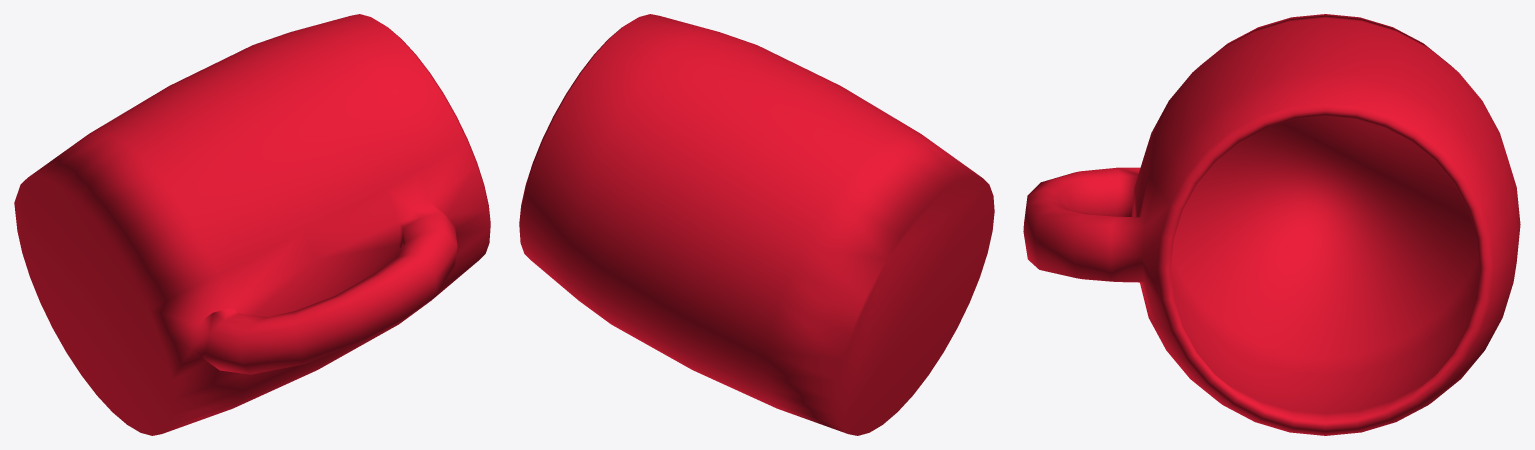
Rendered from cup.dae.
3 renders of one model, left to right at view 1: azimuth 30°, elevation 25°; view 2: azimuth 150°, elevation 25°; view 3: azimuth 270°, elevation 25°, orthographic. The views are drawn at different scales.
Parts seen in each view (by area): view 1: Tea Cup.001; view 2: Tea Cup.001; view 3: Tea Cup.001.
Boxes of the visible parts, left/top/right/bottom form: Tea Cup.001: left=14, top=14, right=490, bottom=435; Tea Cup.001: left=519, top=14, right=994, bottom=435; Tea Cup.001: left=1023, top=14, right=1520, bottom=435.
Size of the model in its own units: 0.0611 by 0.0561 by 0.0511.
